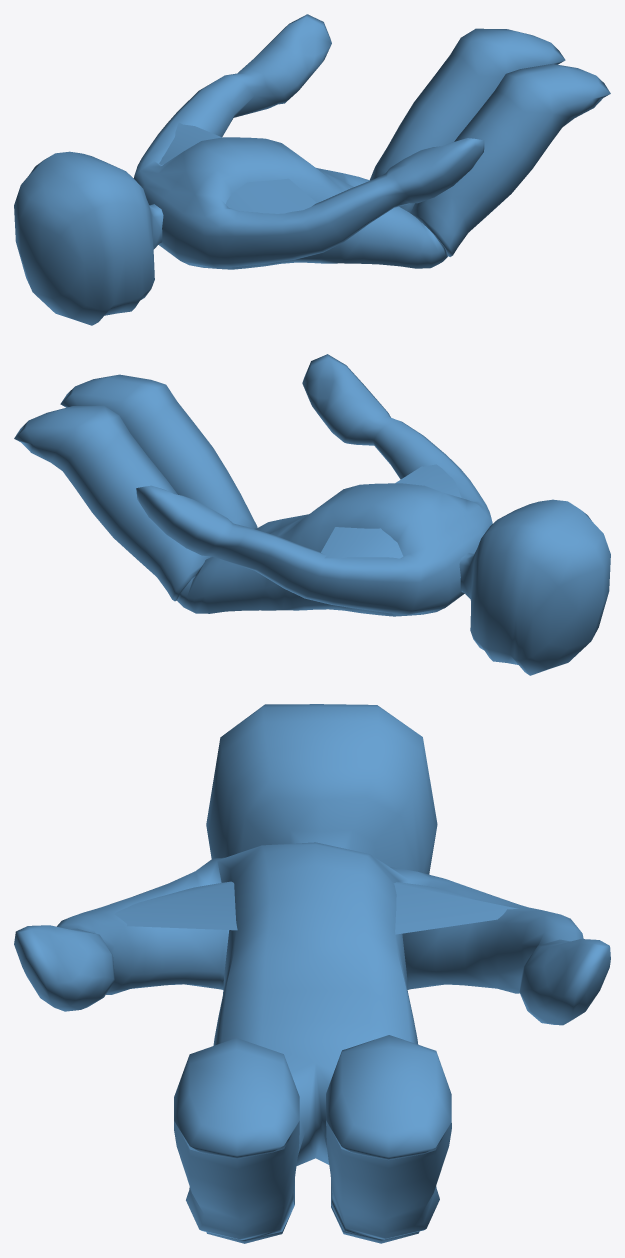
The model's file is skydiver.dae.
3 views of the same model, one above another, from view 1: azimuth 30°, elevation 25°; view 2: azimuth 150°, elevation 25°; view 3: azimuth 270°, elevation 25° (orthographic). The views are drawn at different scales.
Parts seen in each view (by area): view 1: SkyDiver; view 2: SkyDiver; view 3: SkyDiver.
Part boxes in pixels (box(x1,y1,x2,y2)): SkyDiver: box(14, 14, 610, 325); SkyDiver: box(14, 354, 610, 675); SkyDiver: box(14, 704, 610, 1243).
Size of the model in its own units: 0.7104 by 0.395 by 0.2174.
